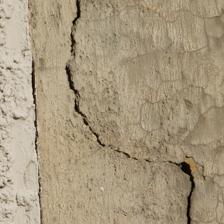Crack: (63, 2, 178, 165), (173, 156, 208, 220)
